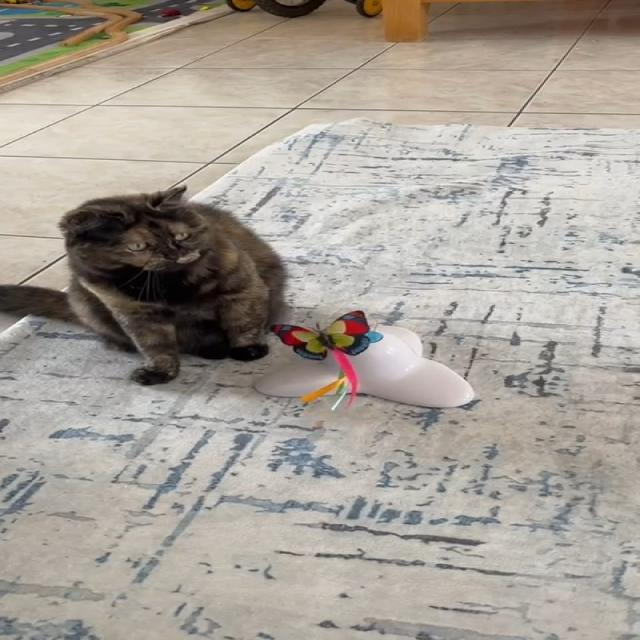authorized: (0, 183, 289, 385)
